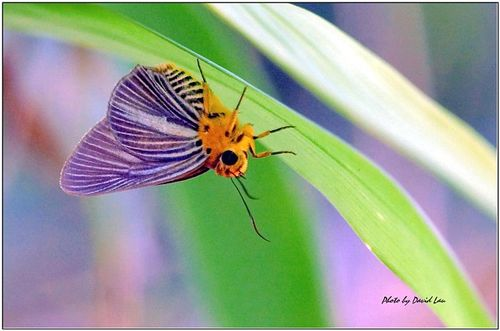Hesperiidae: (59, 53, 301, 245)
